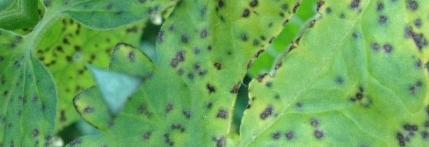Tomato Septoria leaf spot: (101, 0, 428, 147), (8, 0, 203, 76)
